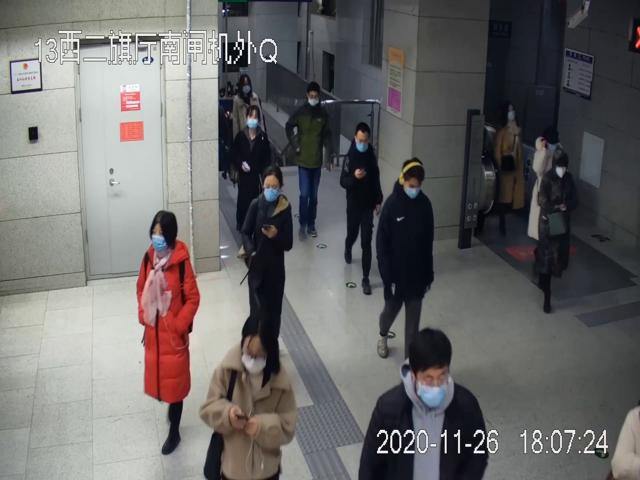person: (200, 312, 296, 480), (135, 209, 199, 453), (377, 158, 435, 363), (241, 164, 294, 342), (287, 81, 333, 241), (339, 123, 382, 292), (537, 151, 575, 312), (231, 105, 271, 253)
